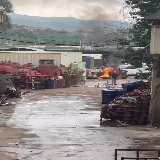fire: (100, 67, 114, 77)
